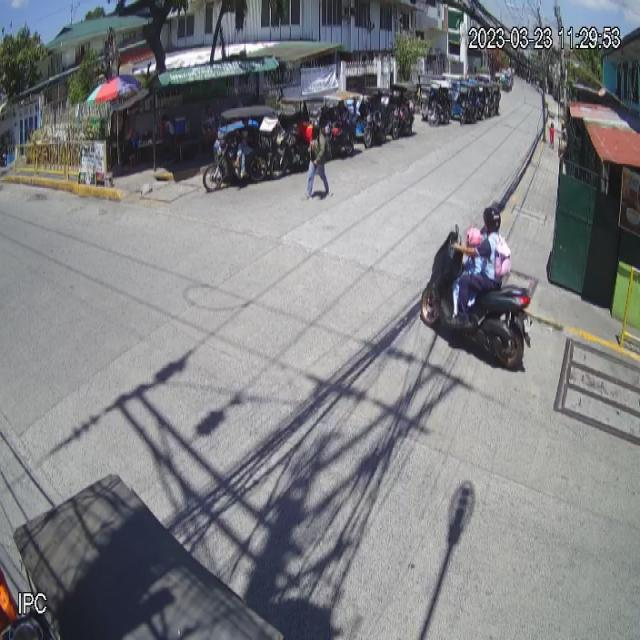Motorcycle: (420, 222, 534, 371)
